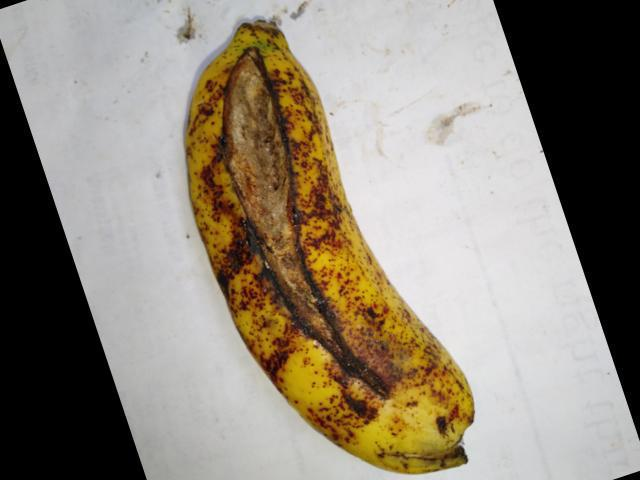rotten: (203, 38, 412, 424)
